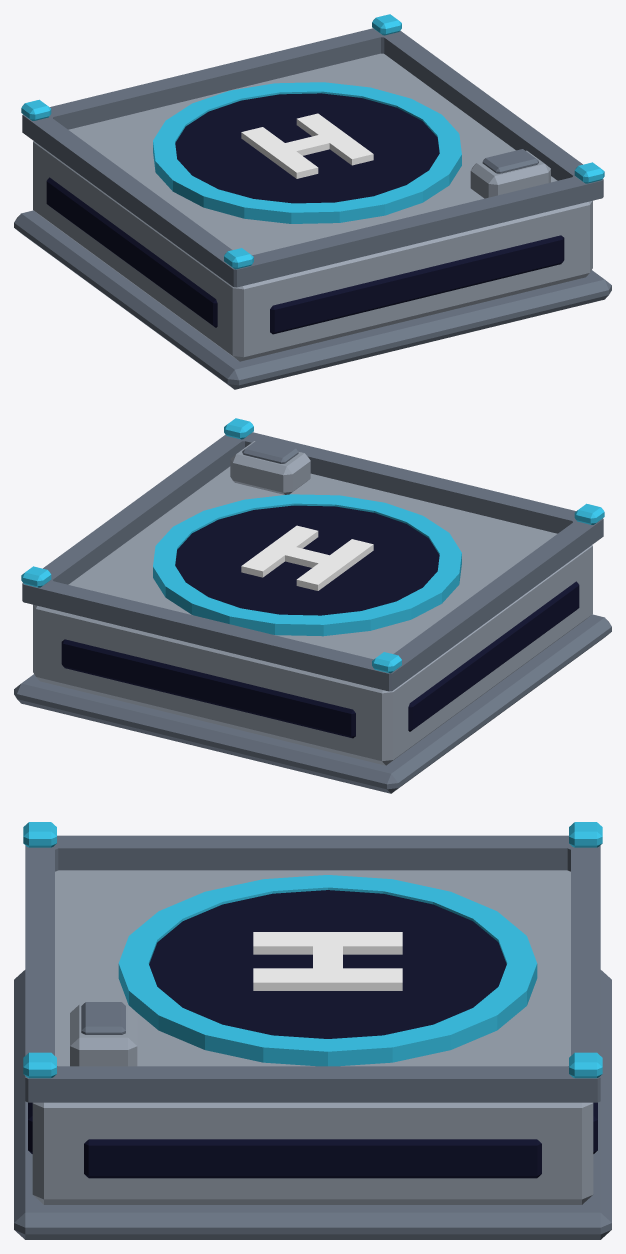
The model's file is Prop_hero_city_RooftopPad.glb.
3 renders of one model, top to bottom at view 1: azimuth 30°, elevation 25°; view 2: azimuth 150°, elevation 25°; view 3: azimuth 270°, elevation 25°, orthographic. The views are drawn at different scales.
Visible parts, largest first — view 1: StoneDark_6B7686, StoneLight_9AA4B2, Ink_0D0F2B, ZoneCyan_35C9F0, MarkWhite_FFFFFF; view 2: StoneDark_6B7686, StoneLight_9AA4B2, Ink_0D0F2B, ZoneCyan_35C9F0, MarkWhite_FFFFFF; view 3: StoneDark_6B7686, StoneLight_9AA4B2, Ink_0D0F2B, ZoneCyan_35C9F0, MarkWhite_FFFFFF.
Part boxes in pixels (<box>): StoneDark_6B7686: <box>14,28,611,389</box>; StoneLight_9AA4B2: <box>33,53,592,361</box>; Ink_0D0F2B: <box>46,93,564,334</box>; ZoneCyan_35C9F0: <box>21,14,604,269</box>; MarkWhite_FFFFFF: <box>241,113,373,178</box>; StoneDark_6B7686: <box>14,432,611,793</box>; StoneLight_9AA4B2: <box>33,441,592,765</box>; Ink_0D0F2B: <box>61,505,579,738</box>; ZoneCyan_35C9F0: <box>21,418,604,673</box>; MarkWhite_FFFFFF: <box>241,525,373,590</box>; StoneDark_6B7686: <box>14,835,611,1239</box>; StoneLight_9AA4B2: <box>32,870,593,1204</box>; Ink_0D0F2B: <box>28,890,597,1178</box>; ZoneCyan_35C9F0: <box>23,822,602,1078</box>; MarkWhite_FFFFFF: <box>253,932,402,990</box>.
Bounding box in the file's own units: 16 × 5.4 × 16.
